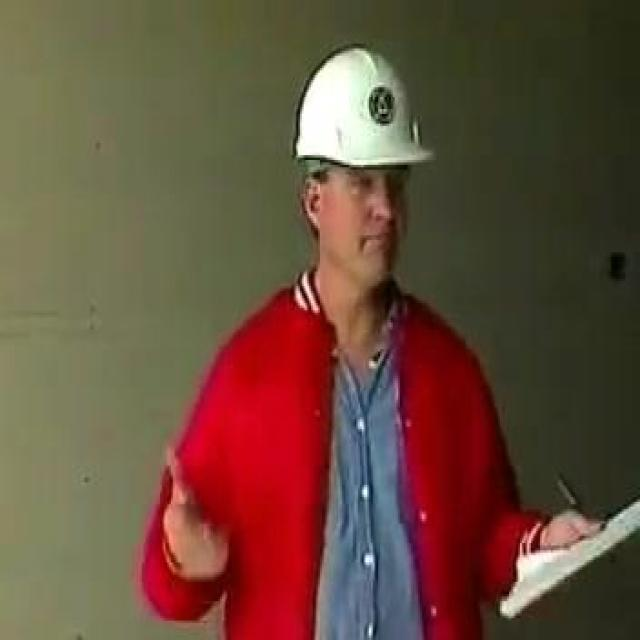Safety-Helmet: (280, 36, 444, 192)
